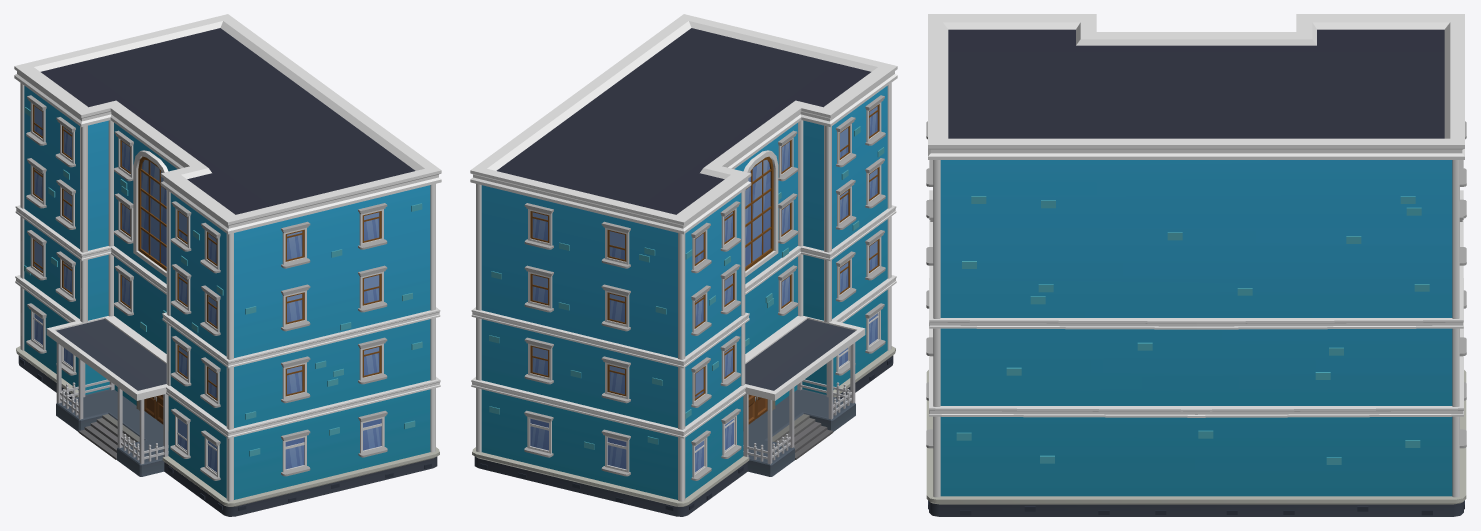
File: Building_5_3_F.fbx
3 views of the same model, side by side, from view 1: azimuth 30°, elevation 25°; view 2: azimuth 150°, elevation 25°; view 3: azimuth 270°, elevation 25° (orthographic). The views are drawn at different scales.
Parts seen in each view (by area): view 1: Building_5_3_F; view 2: Building_5_3_F; view 3: Building_5_3_F.
Part boxes in pixels (x1=…): Building_5_3_F: x1=14, y1=14, x2=441, y2=516; Building_5_3_F: x1=470, y1=14, x2=897, y2=516; Building_5_3_F: x1=926, y1=14, x2=1466, y2=516.
Bounding box in the file's own units: 1251 × 1450 × 1908.
